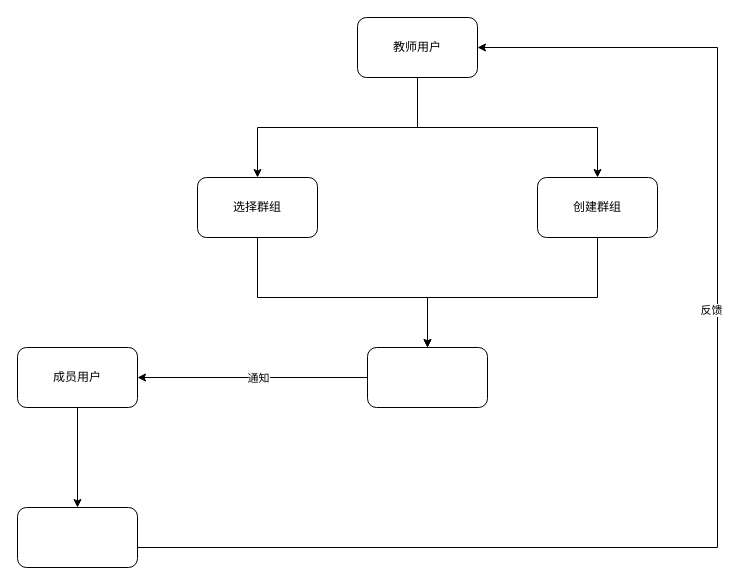
This 743x585 diagram has some shape labels left out. Here are the shapes that lost their labels. From the top down, the centre of each, then its label:
At point 427,377: "消息发布/任务发布".
At point 77,537: "确认发布".
